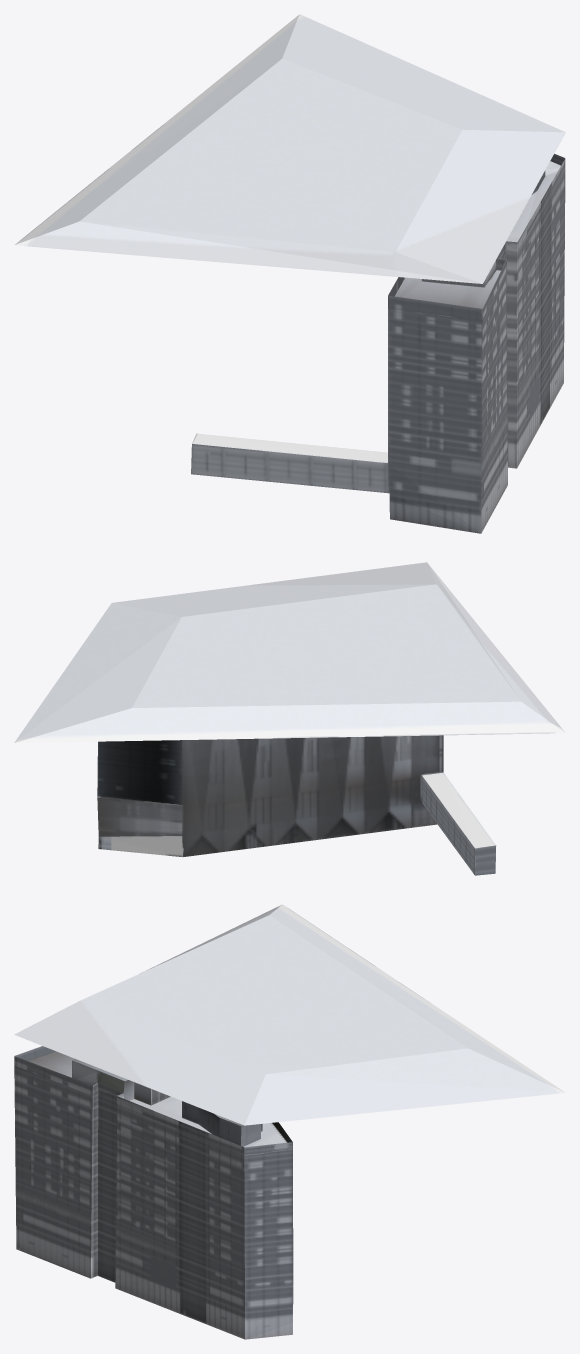
Rendered from 207Aresedential.glb.
The picture shows the model from 3 angles, top to bottom: view 1: azimuth 30°, elevation 25°; view 2: azimuth 150°, elevation 25°; view 3: azimuth 270°, elevation 25°; orthographic projection. The views are drawn at different scales.
Parts seen in each view (by area): view 1: 2.07-A.001; view 2: 2.07-A.001; view 3: 2.07-A.001.
Boxes of the visible parts, bbox=[...] form: 2.07-A.001: bbox=[14, 14, 565, 533]; 2.07-A.001: bbox=[14, 562, 565, 875]; 2.07-A.001: bbox=[14, 904, 565, 1339].
Size of the model in its own units: 115 by 55.48 by 122.
1 material, 1 textured.
